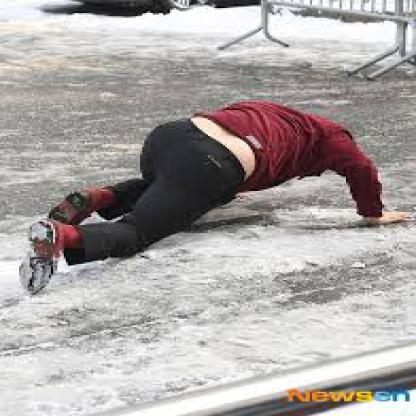Fall_Down: (19, 101, 412, 294)
